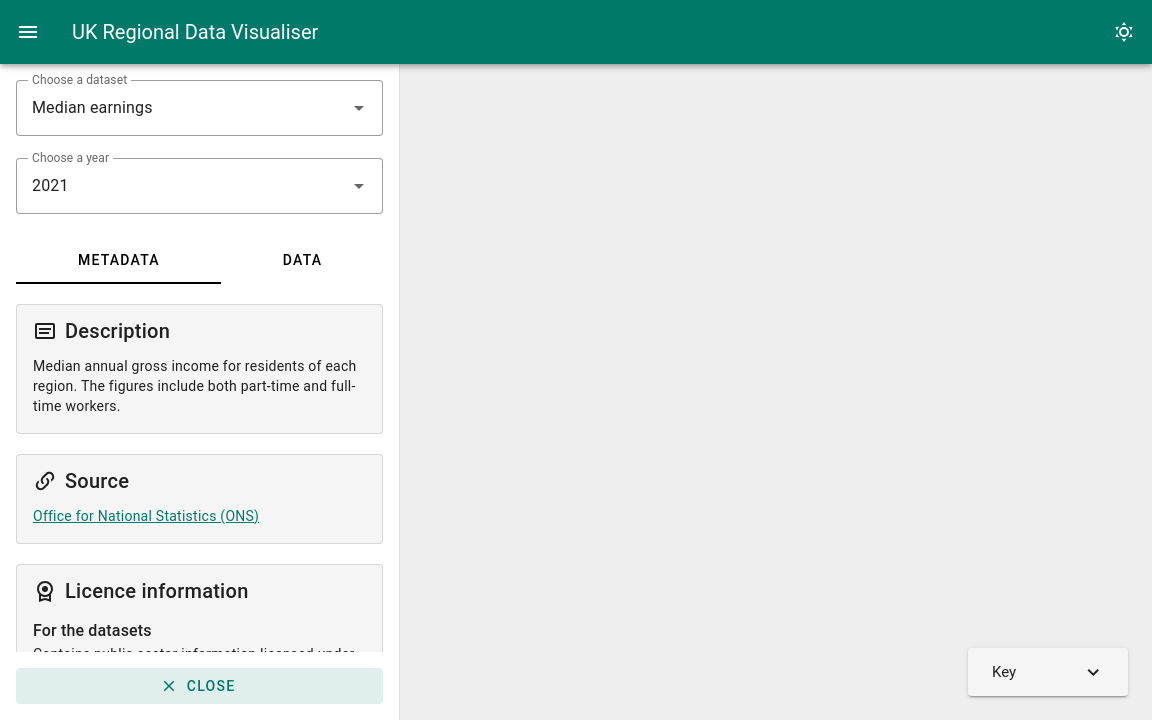
it: Data details panel › Data tab › hides the info panel and unhighlights the region row when the close button is clicked on the info panel
Click the text "Data" at [303, 260], box left=282, top=252, right=323, bottom=268
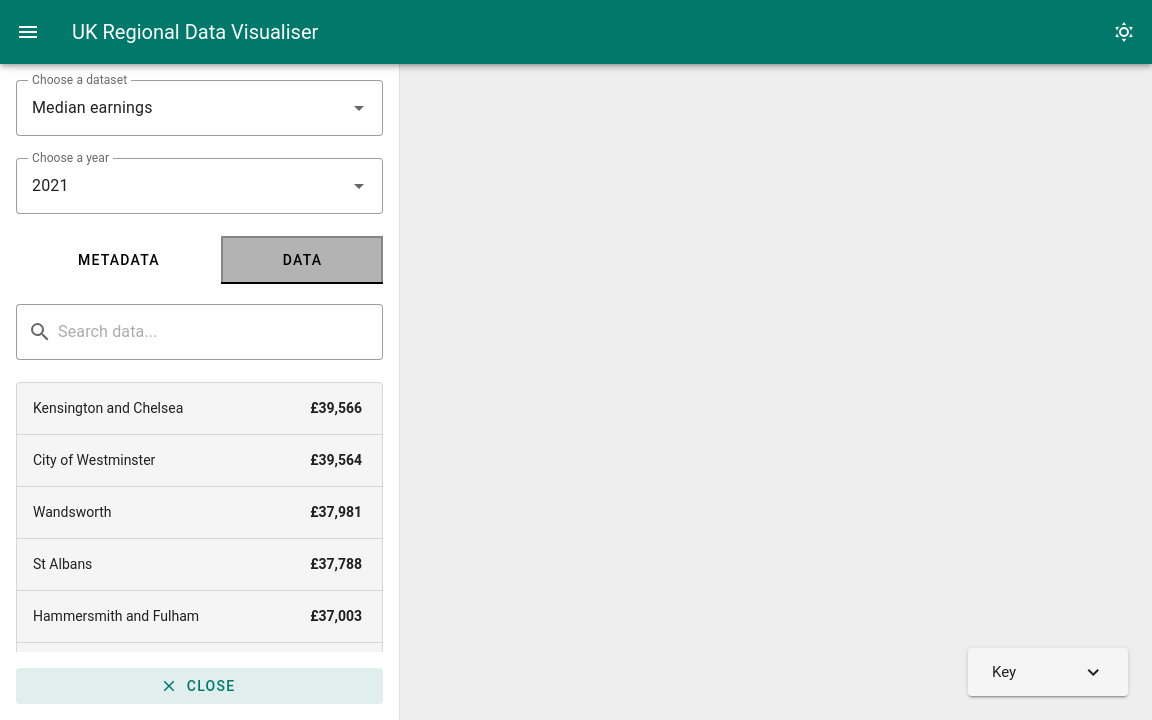
Type "Manchester" into the field with placeholder "Search data..." at [218, 332], box left=52, top=304, right=383, bottom=360
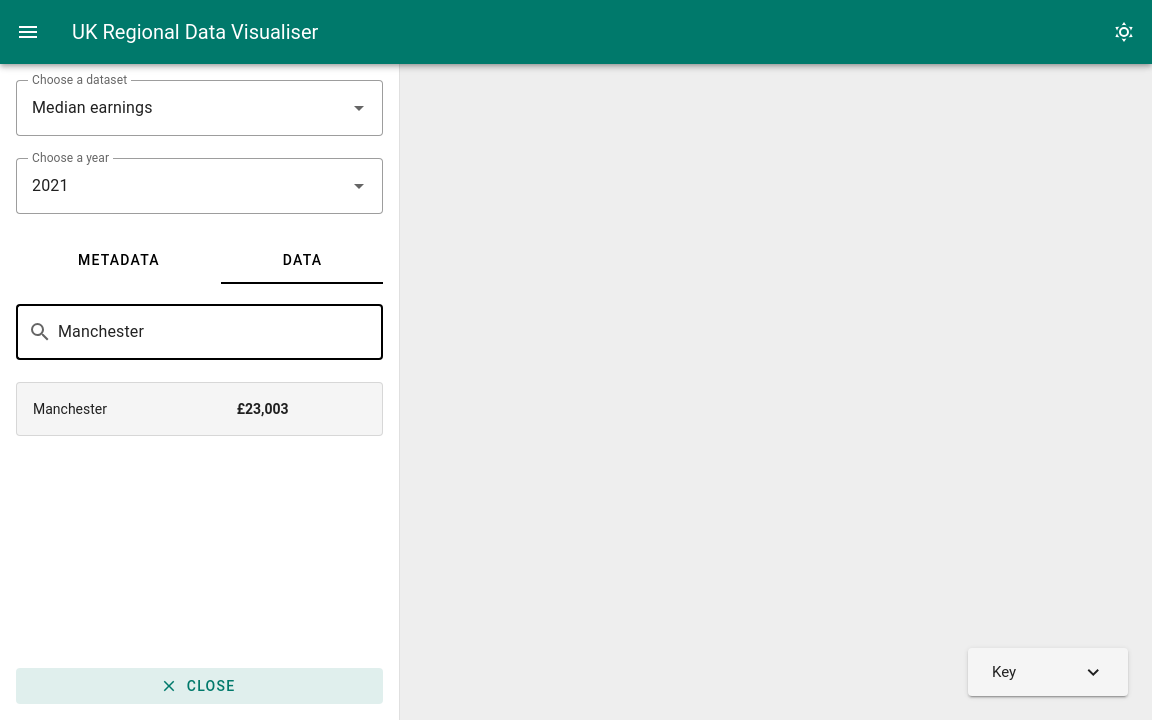
Click the row "Manchester £23,003" at [70, 409], box left=17, top=383, right=382, bottom=435
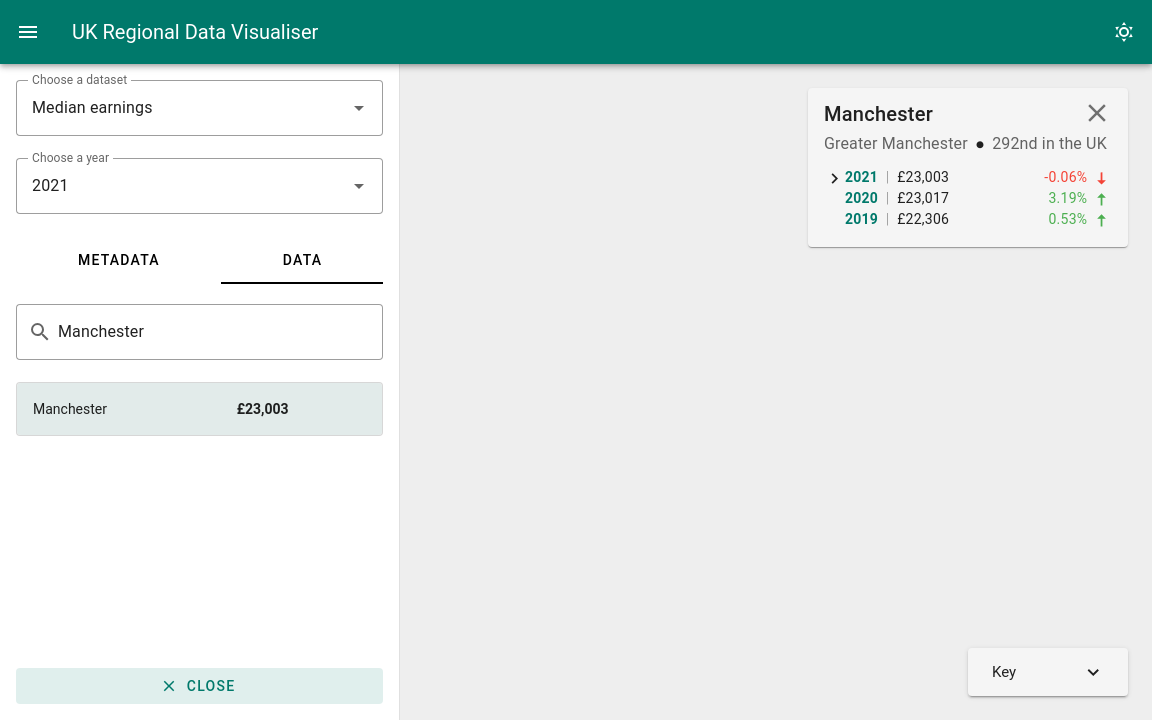
Expected: the element with id "info-panel-root" is shown, left=808, top=88, right=1128, bottom=247
Click the button named "Close" at [1097, 113], box left=1082, top=98, right=1112, bottom=128
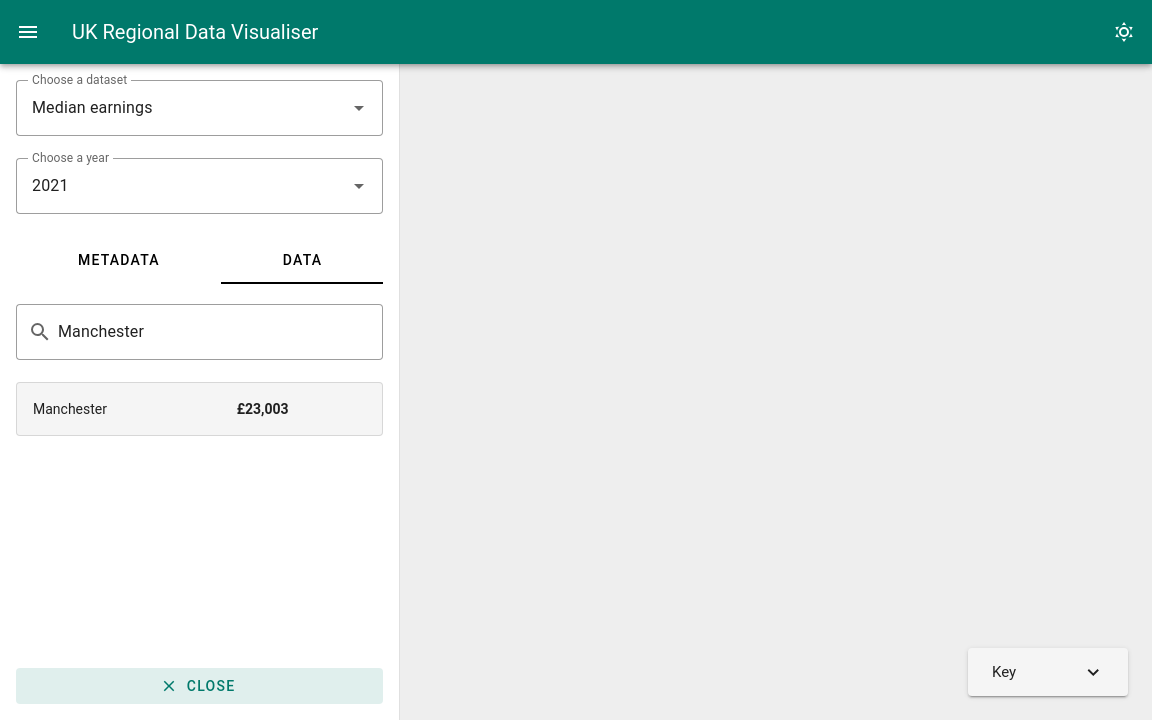
Expected: the element with id "info-panel-root" is gone
